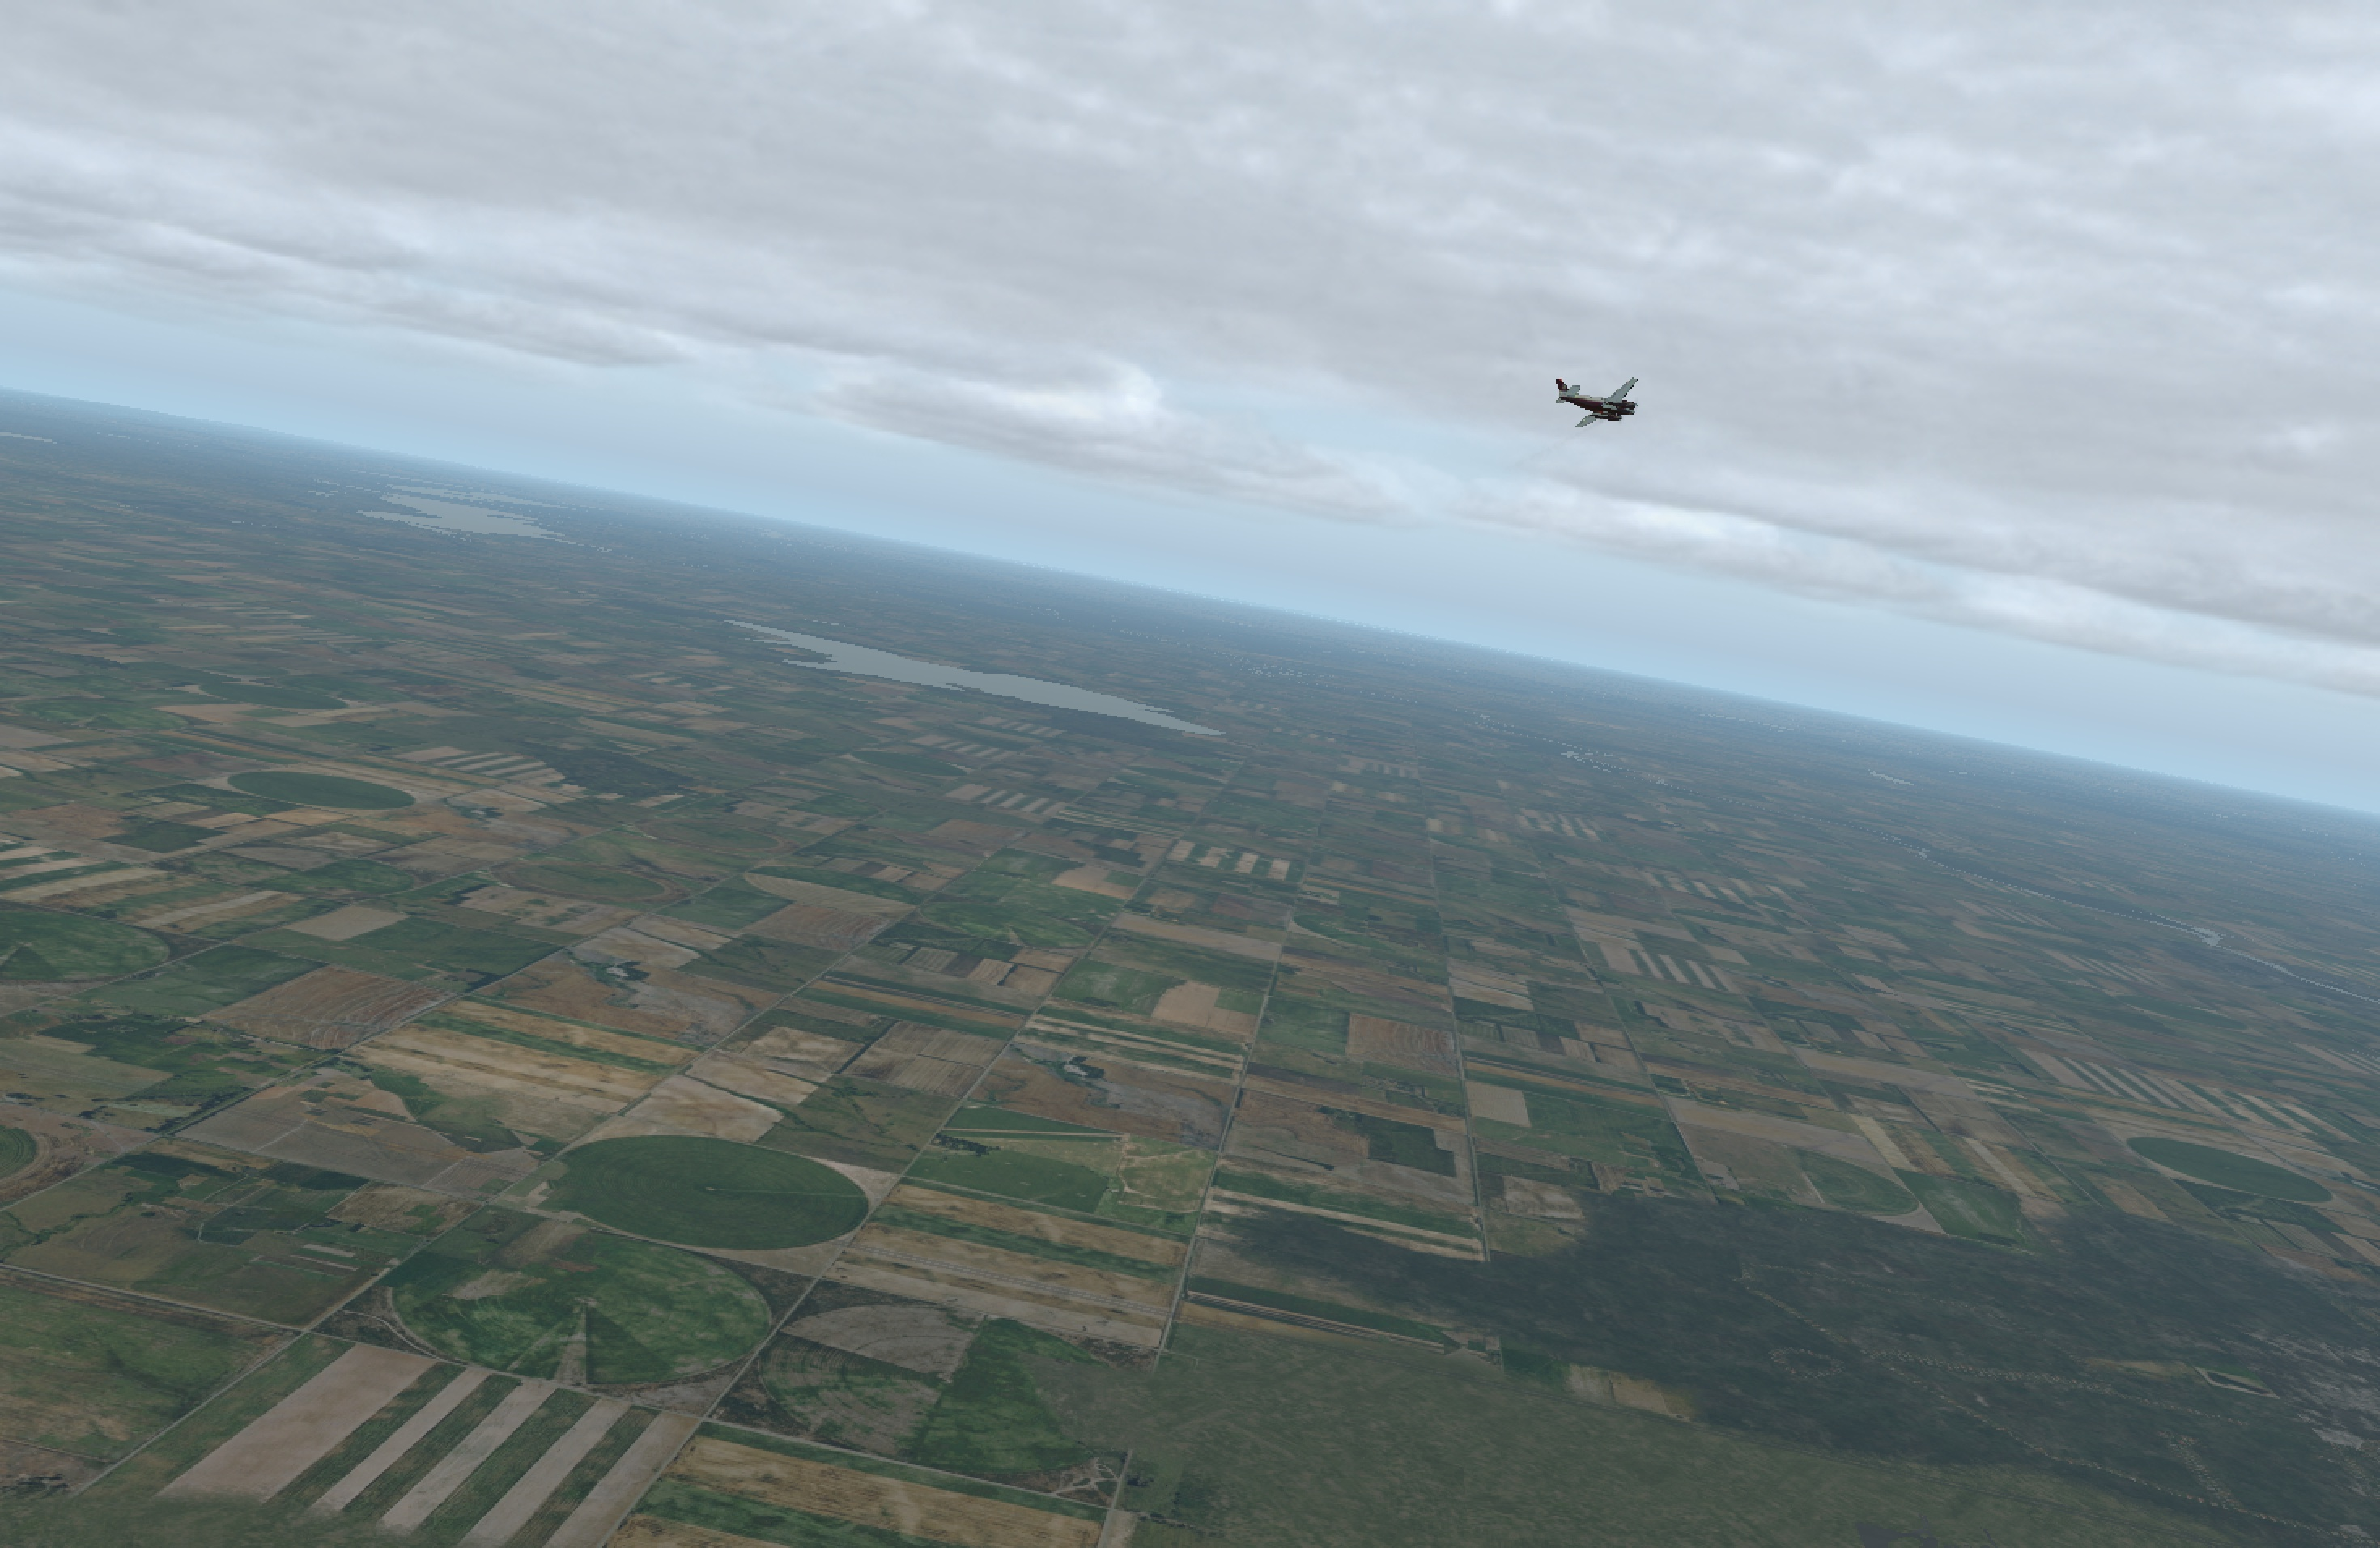aircraft: (1549, 389, 1671, 434)
